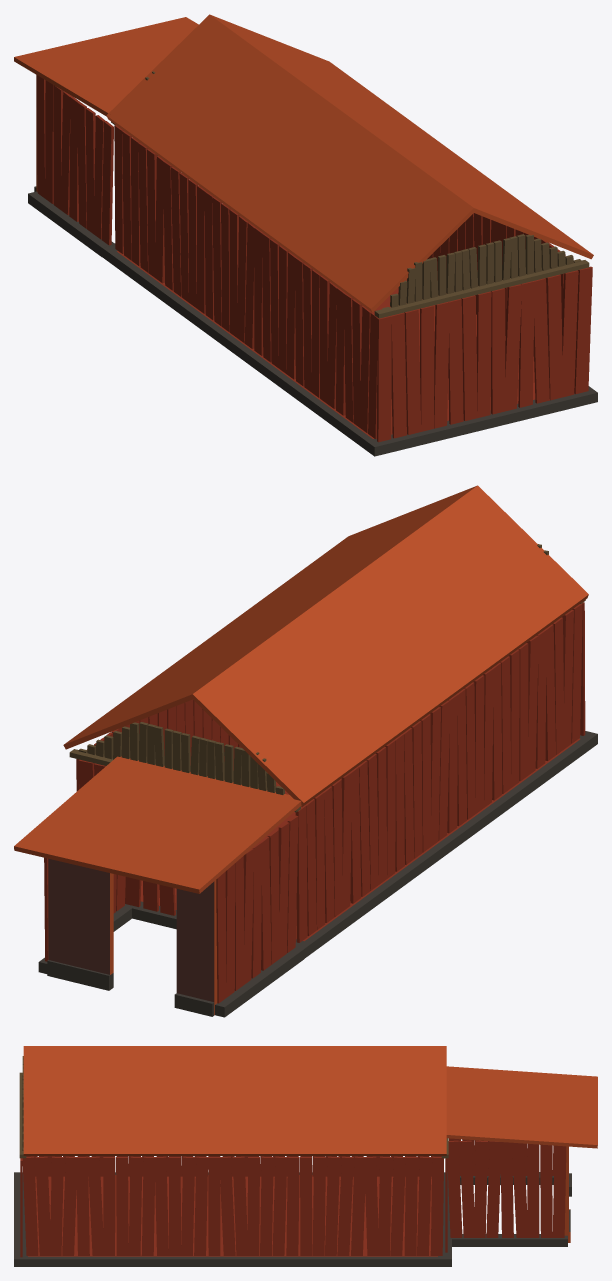
Rendered from House.fbx.
The picture shows the model from 3 angles, top to bottom: view 1: azimuth 30°, elevation 25°; view 2: azimuth 150°, elevation 25°; view 3: azimuth 270°, elevation 25°; orthographic projection. The views are drawn at different scales.
Parts seen in each view (by area): view 1: Cube.011, Cube.001, Cube.015, Cube.006, Cube, Cube.012, Cube.019, Cube.014, Cube.003, Cube.024; view 2: Cube.011, Cube.001, Cube.012, Cube.006, Cube.007, Cube, Cube.004, Cube.008, Cube.014, Cube.021, Cube.024, Cube.023; view 3: Cube.011, Cube.014, Cube.012, Cube.023, Cube, Cube.001, Cube.005, Cube.006, Cube.007, Cube.003.
Boxes of the visible parts, <box> form: Cube.011: <box>106,14,593,312</box>; Cube.001: <box>114,125,377,439</box>; Cube.015: <box>377,266,592,442</box>; Cube.006: <box>36,75,113,245</box>; Cube: <box>102,245,597,456</box>; Cube.012: <box>14,17,198,116</box>; Cube.019: <box>382,234,581,309</box>; Cube.014: <box>427,213,578,356</box>; Cube.003: <box>374,260,589,318</box>; Cube.024: <box>28,191,115,256</box>; Cube.011: <box>63,485,588,806</box>; Cube.001: <box>295,603,582,942</box>; Cube.012: <box>14,756,301,893</box>; Cube.006: <box>216,815,298,1003</box>; Cube.007: <box>47,858,113,990</box>; Cube: <box>125,714,597,958</box>; Cube.004: <box>78,722,284,794</box>; Cube.008: <box>174,880,217,1016</box>; Cube.014: <box>76,699,241,791</box>; Cube.021: <box>78,759,175,915</box>; Cube.024: <box>215,946,304,1017</box>; Cube.023: <box>44,857,125,961</box>; Cube.011: <box>23,1046,446,1155</box>; Cube.014: <box>22,1156,444,1255</box>; Cube.012: <box>446,1066,597,1148</box>; Cube.023: <box>447,1140,566,1237</box>; Cube: <box>14,1172,451,1266</box>; Cube.001: <box>26,1156,441,1176</box>; Cube.005: <box>449,1234,567,1246</box>; Cube.006: <box>449,1138,554,1175</box>; Cube.007: <box>564,1146,570,1242</box>; Cube.003: <box>19,1072,26,1158</box>.
Bounding box in the file's own units: 17.46 × 16.16 × 48.93.
